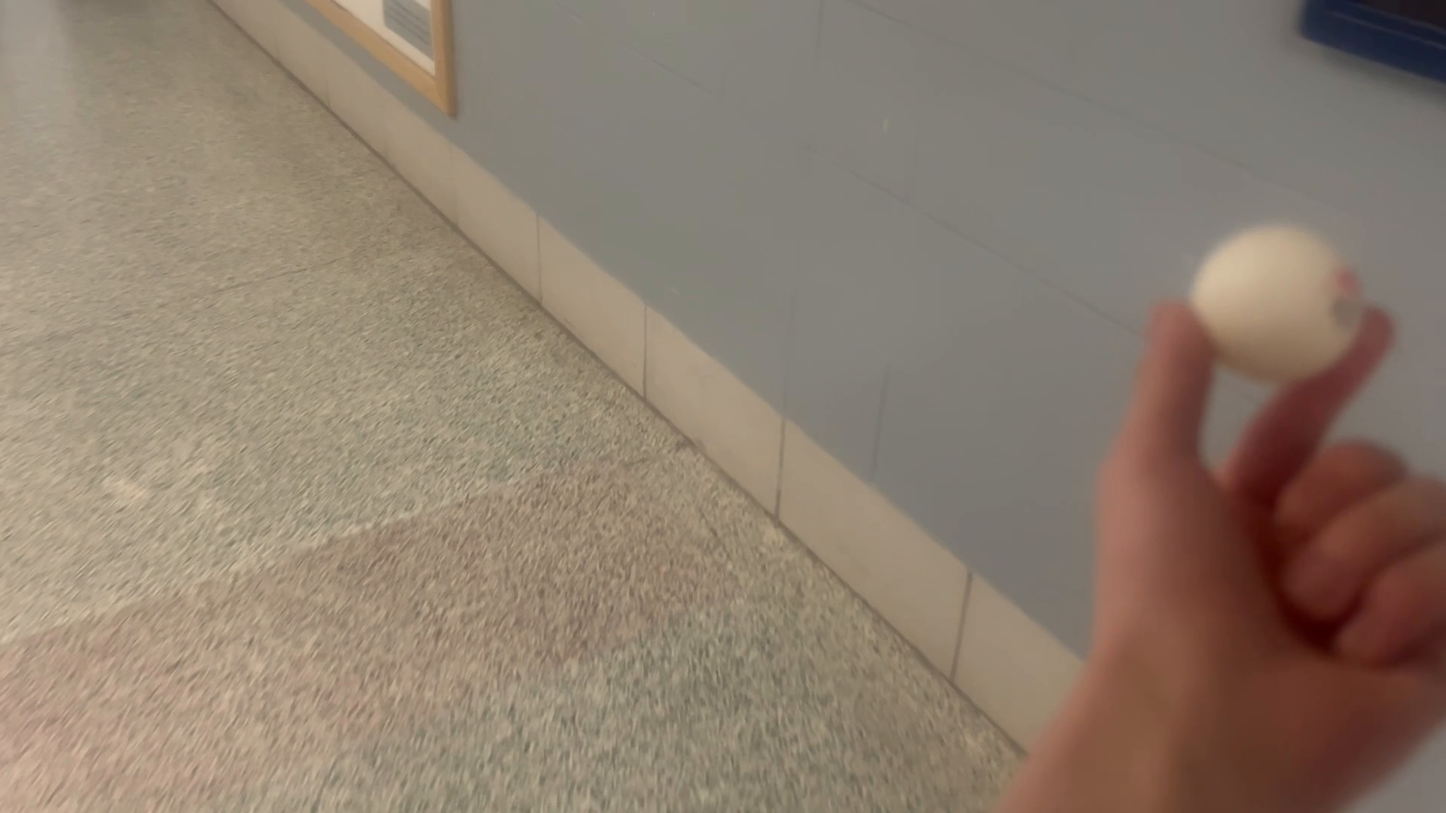Ball: (1194, 226, 1358, 372)
